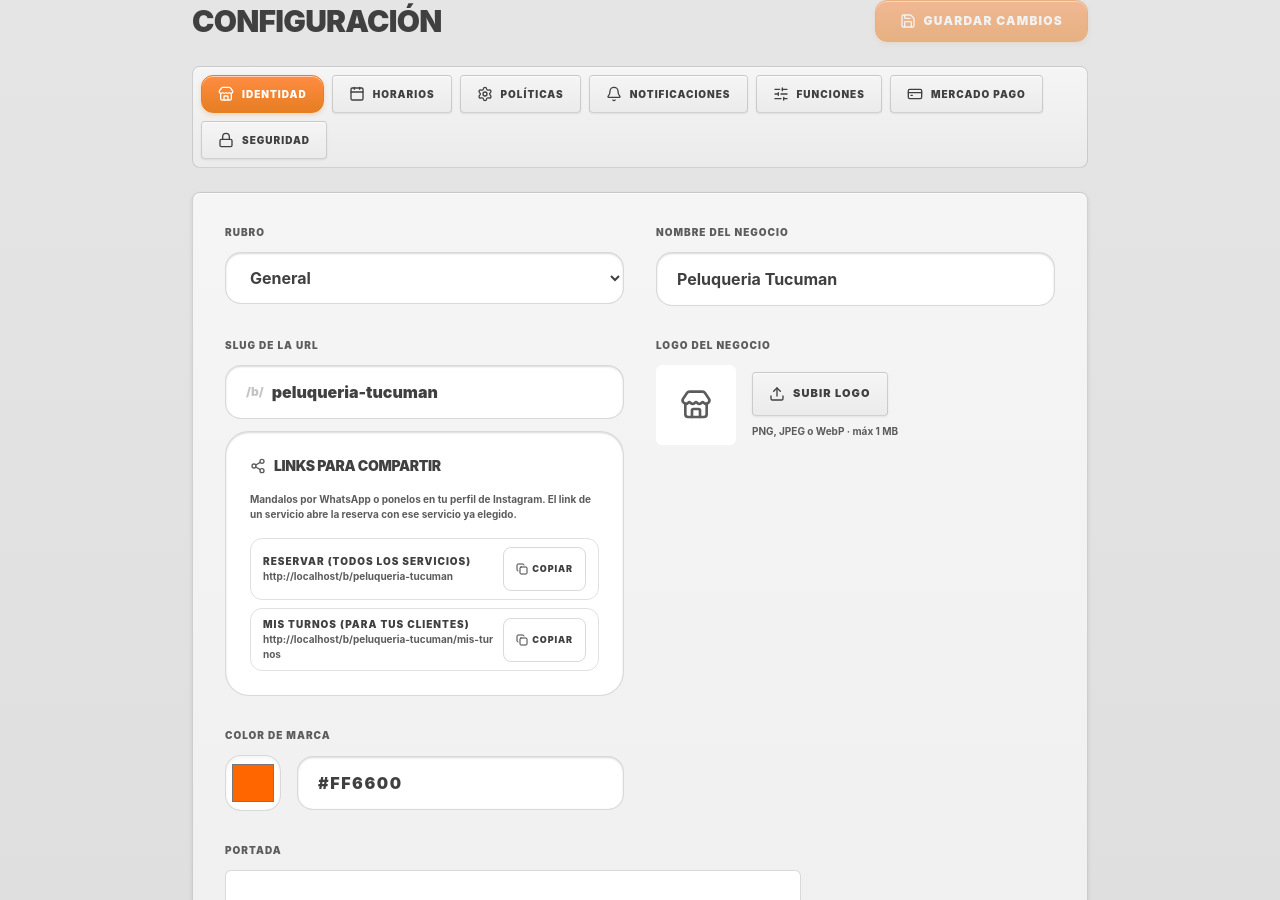
Test: Settings - funciones › prender cobros llega a updateFeatureFlags y no al PATCH de la tienda
Click the button "Funciones".
click(819, 94)  # box [756,75,882,113]
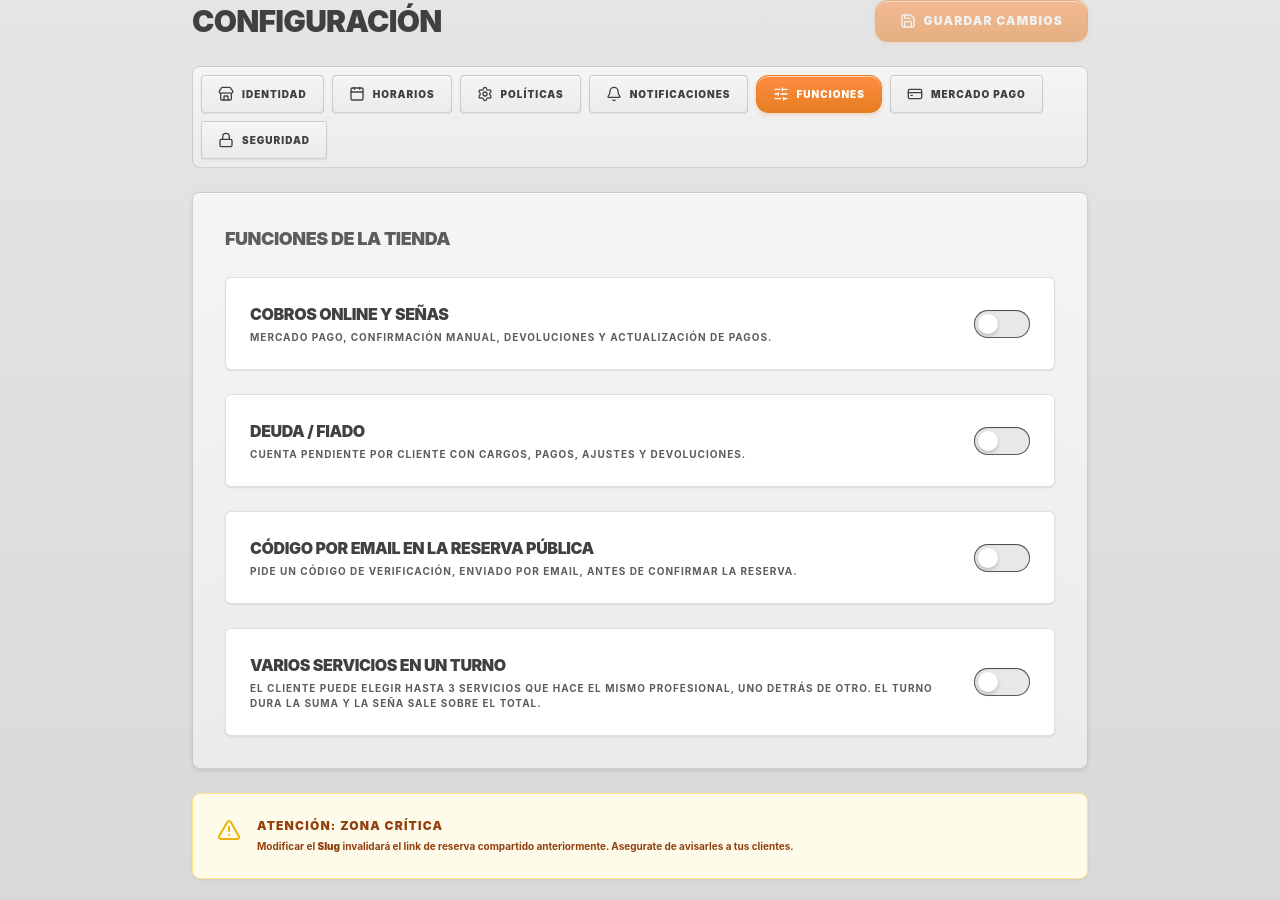
Click the switch named "Cobros online y señas".
click(1002, 324)  # box [974,310,1030,338]
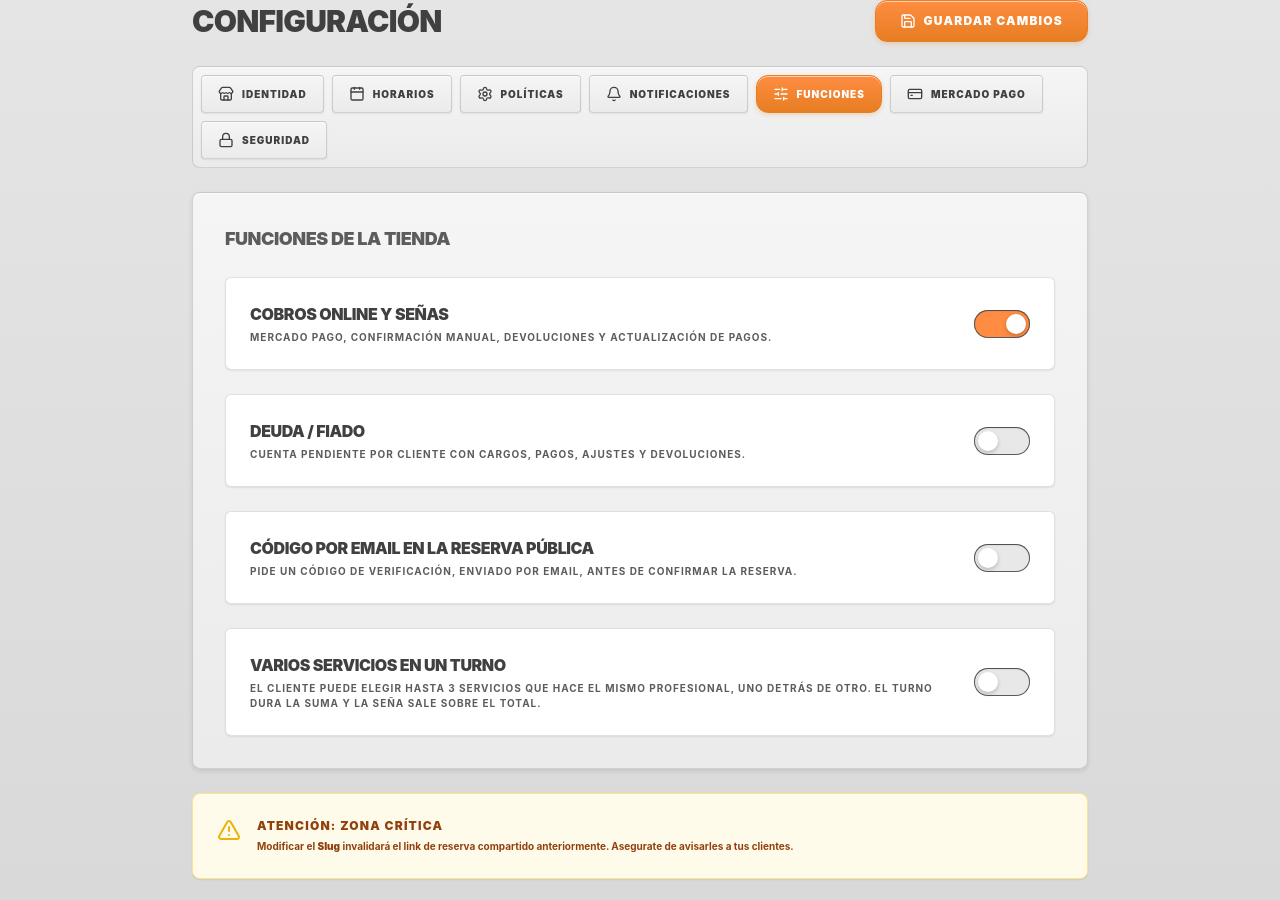
Click the button "Guardar Cambios".
click(981, 21)  # box [874,0,1088,42]
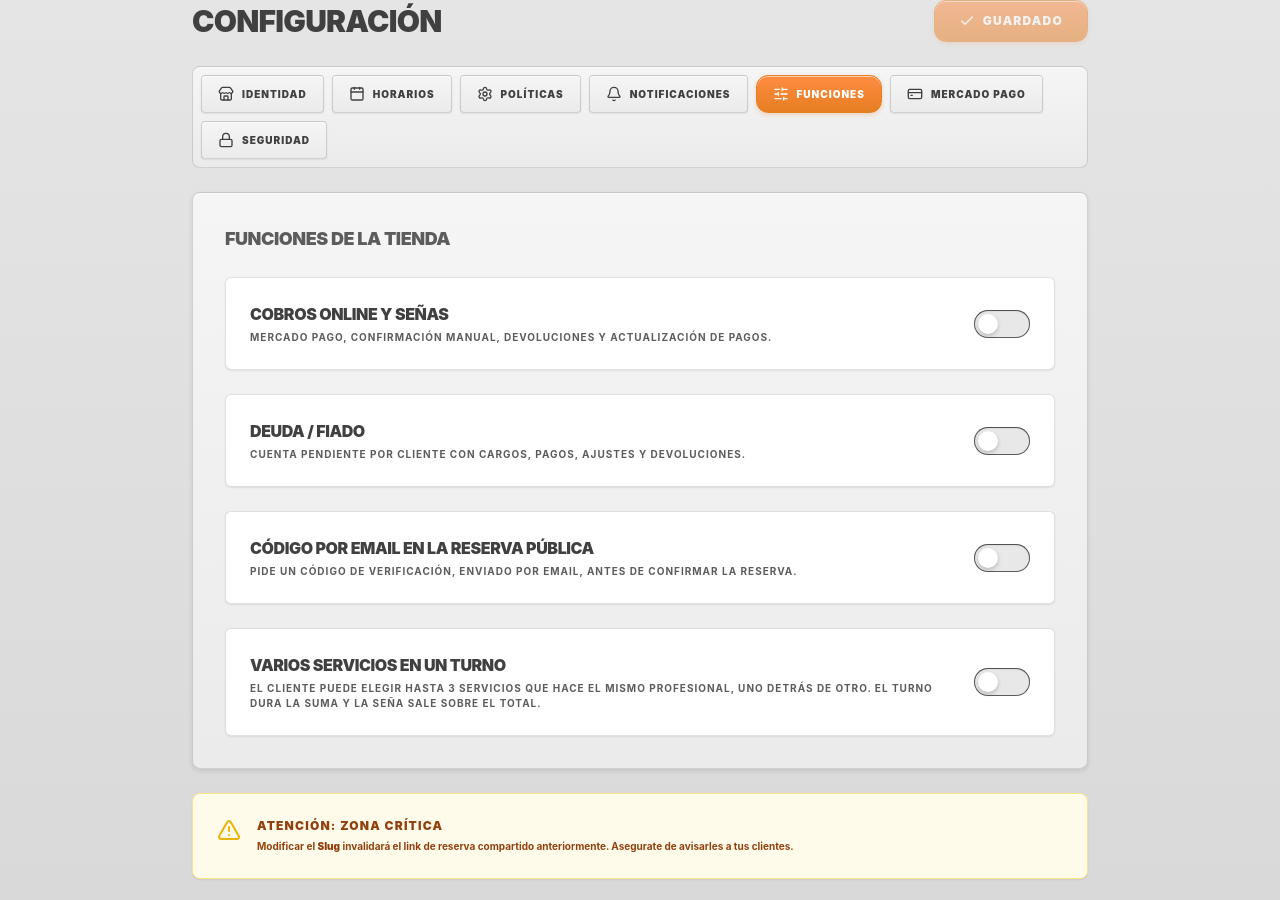
Result: the button "Guardado" is shown at [934,0,1088,42]
